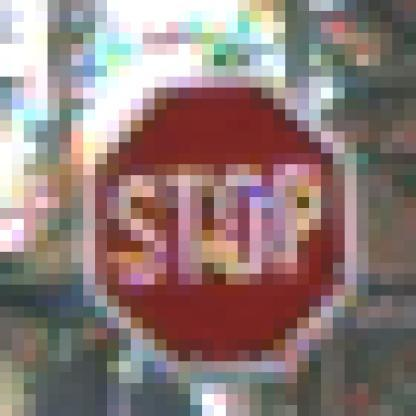Stop: (92, 75, 356, 370)
